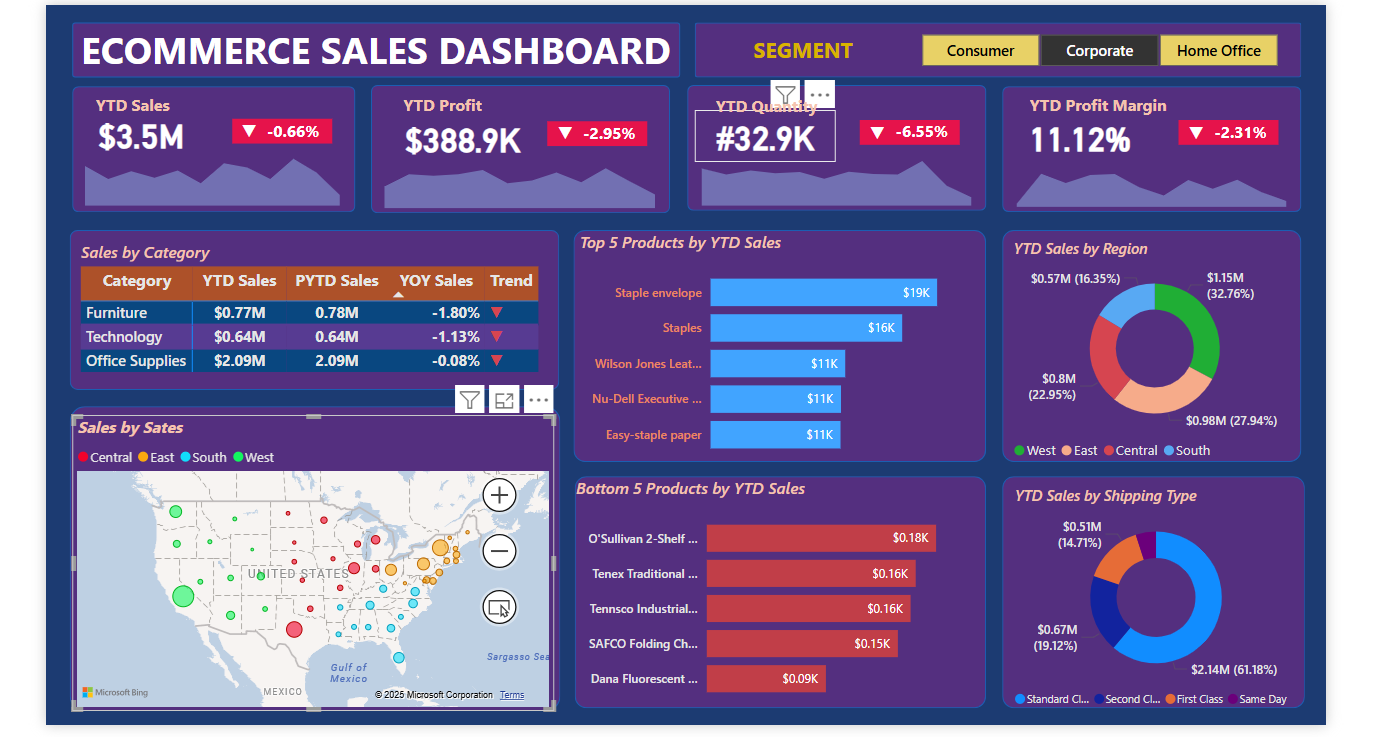

This screenshot's page, from the dashboard's own definition file:
{"tool":"powerbi","page":{"name":"Page 1","canvas":[1280,720],"ordinal":0},"visuals":[{"type":"shape","box":[26.9,17.1,607.9,54.9],"z":0},{"type":"textbox","box":[30.5,13.4,628.7,64.7],"z":1000},{"type":"shape","box":[26,81.8,283.1,126],"z":2000},{"type":"card","fields":{"Values":["ecommerce_data.YTD Sales"]},"box":[30.5,102.5,130.6,53.7],"z":3000},{"type":"areaChart","fields":{"Category":["Calendar.Month"],"Y":["Sum(ecommerce_data.sales_per_order)"]},"box":[24.4,135.5,283.2,70.8],"z":4000},{"type":"shape","box":[186,114,100,24.4],"z":5000},{"type":"card","fields":{"Values":["ecommerce_data.YOY Sales"]},"box":[209.3,114,76.7,28],"z":6000},{"type":"card","fields":{"Values":["ecommerce_data.Sales Icon"]},"box":[164.8,112.3,76.9,29.3],"z":7000},{"type":"textbox","box":[45.2,84.2,101.3,31.7],"z":8000},{"type":"shape","box":[640.9,80.6,299.1,125.7],"z":9000},{"type":"card","fields":{"Values":["ecommerce_data.YTD Concatenated Qty"]},"box":[648.2,105,141.6,52.5],"z":10000},{"type":"areaChart","fields":{"Category":["Calendar.Month"],"Y":["Sum(ecommerce_data.order_quantity)"]},"box":[640.9,135.5,299.1,70.8],"z":11000},{"type":"shape","box":[814.3,115.3,100,24.4],"z":12000},{"type":"card","fields":{"Values":["ecommerce_data.YOY Qty"]},"box":[837.4,113.5,76.9,28.1],"z":13000},{"type":"card","fields":{"Values":["ecommerce_data.Qty Icon"]},"box":[793.4,114.7,75.7,29.3],"z":14000},{"type":"textbox","box":[664.5,84.4,129,31.4],"z":15000},{"type":"shape","box":[955.8,81.8,299.1,125.7],"z":16000},{"type":"areaChart","fields":{"Category":["Calendar.Month"],"Y":["ecommerce_data.Profit Margin"]},"box":[955.8,136.7,299.1,70.8],"z":17000},{"type":"shape","box":[1132.8,114.7,100.1,24.4],"z":18000},{"type":"card","fields":{"Values":["ecommerce_data.YOY Profit Margin"]},"box":[1156,114.7,76.9,26.9],"z":19000},{"type":"card","fields":{"Values":["ecommerce_data.Profit Margin Icon"]},"box":[1112,114.7,75.7,29.3],"z":20000},{"type":"textbox","box":[979,84.2,167.2,31.7],"z":21000},{"type":"card","fields":{"Values":["ecommerce_data.YTD Profit Margin"]},"box":[964.3,105,140.4,53.7],"z":22000},{"type":"shape","box":[23.2,224.6,489.5,159.9],"z":23000},{"type":"shape","box":[324.7,80.6,299.1,128.2],"z":24000},{"type":"card","fields":{"Values":["ecommerce_data.YTD Profit"]},"box":[334.5,106.2,163.6,53.7],"z":25000},{"type":"areaChart","fields":{"Category":["Calendar.Month"],"Y":["Sum(ecommerce_data.profit_per_order)"]},"box":[323.5,137.9,300.3,70.8],"z":26000},{"type":"shape","box":[501.8,116.4,100,24.4],"z":27000},{"type":"card","fields":{"Values":["ecommerce_data.YOY Profit"]},"box":[525,116.4,76.7,27.9],"z":28000},{"type":"card","fields":{"Values":["ecommerce_data.Profit Icon"]},"box":[480.7,114.7,76.9,29.3],"z":29000},{"type":"textbox","box":[352.8,84.2,101.3,34.2],"z":30000},{"type":"pivotTable","title":"Sales by Category","fields":{"Rows":["ecommerce_data.category_name"],"Values":["ecommerce_data.YTD Sales","ecommerce_data.PYTD Sales","ecommerce_data.YOY Sales","ecommerce_data.Sales Icon"]},"box":[30.5,235.6,484.6,148.9],"z":31000},{"type":"shape","box":[23.2,401.6,490.7,305.2],"z":32000},{"type":"map","title":"Sales by Sates","fields":{"Y":["us_state_long_lat_codes.latitude"],"X":["us_state_long_lat_codes.longitude"],"Size":["ecommerce_data.YTD Sales"],"Series":["ecommerce_data.customer_region"]},"box":[26.9,410.1,482.2,296.6],"z":33000},{"type":"shape","box":[527.3,224.6,412.6,231.9],"z":34000},{"type":"shape","box":[528.6,471.2,411.4,231.9],"z":35000},{"type":"barChart","title":"Top 5 Products by YTD Sales","fields":{"Category":["ecommerce_data.product_name"],"Y":["ecommerce_data.YTD Sales"]},"box":[528.4,224.4,411.4,238.9],"z":36000},{"type":"barChart","title":"Bottom 5 Products by YTD Sales","fields":{"Category":["ecommerce_data.product_name"],"Y":["ecommerce_data.YTD Sales"]},"box":[525,471.2,411.2,236.2],"z":37000},{"type":"shape","box":[955.8,224.6,299.1,231.9],"z":38000},{"type":"shape","box":[648.2,17.1,606.7,54.9],"z":39000},{"type":"shape","box":[955.8,471.2,302.7,231.9],"z":40000},{"type":"donutChart","title":"YTD Sales by Region","fields":{"Y":["ecommerce_data.YTD Sales"],"Category":["ecommerce_data.customer_region"]},"box":[961.9,231.9,293,231.9],"z":41000},{"type":"donutChart","title":"YTD Sales by Shipping Type","fields":{"Y":["ecommerce_data.YTD Sales"],"Category":["ecommerce_data.shipping_type"]},"box":[964.3,479.7,293,231.9],"z":42000},{"type":"slicer","fields":{"Values":["ecommerce_data.customer_segment"]},"box":[849.6,22,405.3,45.2],"z":43000},{"type":"textbox","box":[703.1,24.4,146.5,47.6],"z":44000}]}

Visuals, with their boxes in screenshot pixels (x1, y1, x2, y2):
shape: <region>39, 0, 675, 57</region>
textbox: <region>43, 0, 701, 64</region>
shape: <region>38, 68, 334, 200</region>
card - ecommerce_data.YTD Sales: <region>43, 89, 179, 146</region>
areaChart - Calendar.Month x Sum(ecommerce_data.sales_per_order): <region>36, 124, 333, 198</region>
shape: <region>205, 101, 310, 127</region>
card - ecommerce_data.YOY Sales: <region>230, 101, 310, 131</region>
card - ecommerce_data.Sales Icon: <region>183, 100, 264, 130</region>
textbox: <region>58, 70, 164, 103</region>
shape: <region>682, 66, 995, 198</region>
card - ecommerce_data.YTD Concatenated Qty: <region>689, 92, 837, 147</region>
areaChart - Calendar.Month x Sum(ecommerce_data.order_quantity): <region>682, 124, 995, 198</region>
shape: <region>863, 103, 968, 128</region>
card - ecommerce_data.YOY Qty: <region>887, 101, 968, 130</region>
card - ecommerce_data.Qty Icon: <region>841, 102, 920, 133</region>
textbox: <region>706, 70, 841, 103</region>
shape: <region>1011, 68, 1324, 199</region>
areaChart - Calendar.Month x ecommerce_data.Profit Margin: <region>1011, 125, 1324, 199</region>
shape: <region>1196, 102, 1301, 128</region>
card - ecommerce_data.YOY Profit Margin: <region>1221, 102, 1301, 130</region>
card - ecommerce_data.Profit Margin Icon: <region>1175, 102, 1254, 133</region>
textbox: <region>1035, 70, 1210, 103</region>
card - ecommerce_data.YTD Profit Margin: <region>1020, 92, 1167, 148</region>
shape: <region>35, 217, 547, 385</region>
shape: <region>351, 66, 664, 201</region>
card - ecommerce_data.YTD Profit: <region>361, 93, 532, 149</region>
areaChart - Calendar.Month x Sum(ecommerce_data.profit_per_order): <region>349, 126, 664, 201</region>
shape: <region>536, 104, 641, 129</region>
card - ecommerce_data.YOY Profit: <region>560, 104, 641, 133</region>
card - ecommerce_data.Profit Icon: <region>514, 102, 594, 133</region>
textbox: <region>380, 70, 486, 106</region>
"Sales by Category" pivotTable: <region>43, 229, 550, 385</region>
shape: <region>35, 402, 549, 722</region>
"Sales by Sates" map: <region>39, 411, 544, 722</region>
shape: <region>563, 217, 995, 460</region>
shape: <region>564, 475, 995, 718</region>
"Top 5 Products by YTD Sales" barChart: <region>564, 217, 994, 467</region>
"Bottom 5 Products by YTD Sales" barChart: <region>560, 475, 991, 723</region>
shape: <region>1011, 217, 1324, 460</region>
shape: <region>689, 0, 1324, 57</region>
shape: <region>1011, 475, 1328, 718</region>
"YTD Sales by Region" donutChart: <region>1018, 225, 1324, 468</region>
"YTD Sales by Shipping Type" donutChart: <region>1020, 484, 1327, 727</region>
slicer - ecommerce_data.customer_segment: <region>900, 5, 1324, 52</region>
textbox: <region>747, 8, 900, 57</region>
